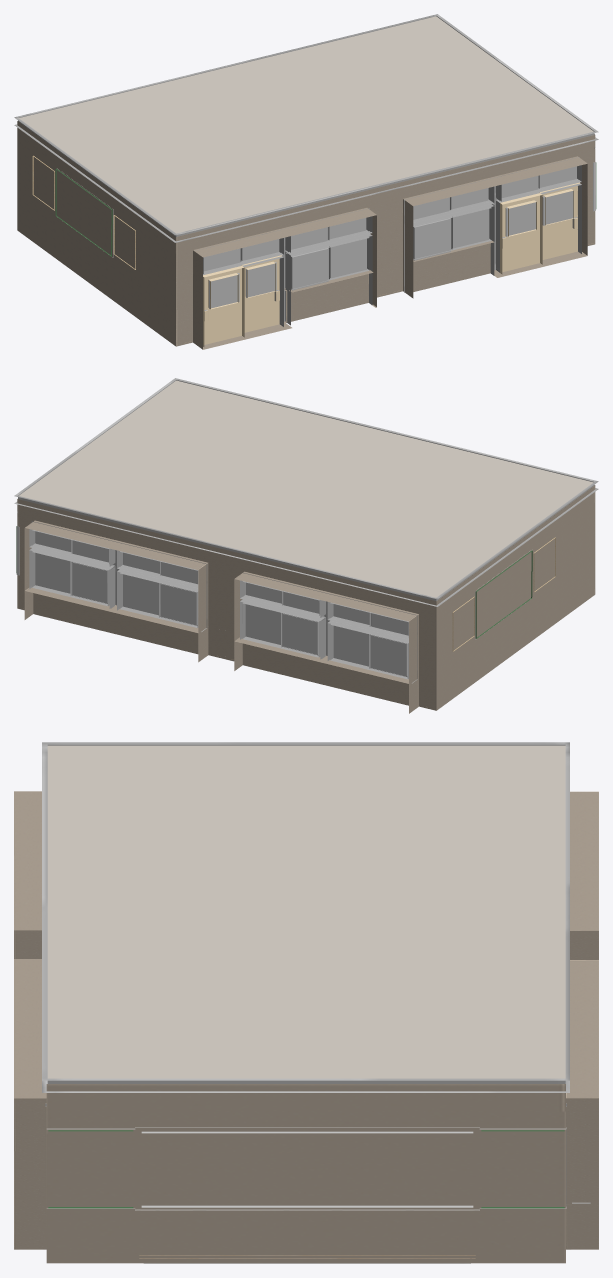
The model's file is japanese-classroom.glb.
The picture shows the model from 3 angles, top to bottom: view 1: azimuth 30°, elevation 25°; view 2: azimuth 150°, elevation 25°; view 3: azimuth 270°, elevation 25°; orthographic projection. The views are drawn at different scales.
Visible parts, largest first — view 1: ROOF:polySurface21, DER, NORTHANDSOUTH, BORDE_METAL, PUERTA_3, PUERTA_4, MARCO_DER_N, MARCO_DER_N2, PUERTA_5, PUERTA_1, VENTANA_CRISTAL23, VENTANA_CRISTAL16 (+16 smaller); view 2: ROOF:polySurface21, IZQ, NORTHANDSOUTH, BORDE_METAL, MARCO_IZQ_N, MARCO_IZQ_N2, VENTANA_CRISTAL4, VENTANA_CRISTAL8, VENTANA_CRISTAL12, VENTANA_CRISTAL, VENTANA_CRISTAL13, VENTANA_CRISTAL1 (+16 smaller); view 3: ROOF:polySurface21, NORTHANDSOUTH, IZQ, DER, BORDE_METAL, MARCO_GRANDE.
Part boxes in pixels (x1,y1,x2,y2): ROOF:polySurface21: [19, 16, 593, 233]; DER: [176, 135, 595, 349]; NORTHANDSOUTH: [17, 121, 594, 346]; BORDE_METAL: [14, 14, 598, 242]; PUERTA_3: [500, 193, 542, 274]; PUERTA_4: [203, 266, 244, 346]; MARCO_DER_N: [404, 157, 581, 292]; MARCO_DER_N2: [195, 208, 372, 326]; PUERTA_5: [241, 255, 281, 332]; PUERTA_1: [539, 182, 580, 259]; VENTANA_CRISTAL23: [291, 248, 328, 290]; VENTANA_CRISTAL16: [413, 218, 450, 260]; ROOF:polySurface21: [19, 380, 593, 597]; IZQ: [17, 499, 436, 713]; NORTHANDSOUTH: [436, 485, 595, 710]; BORDE_METAL: [14, 378, 598, 606]; MARCO_IZQ_N: [29, 521, 207, 631]; MARCO_IZQ_N2: [240, 572, 417, 683]; VENTANA_CRISTAL4: [160, 583, 197, 625]; VENTANA_CRISTAL8: [371, 634, 407, 676]; VENTANA_CRISTAL12: [283, 613, 318, 654]; VENTANA_CRISTAL: [72, 562, 107, 603]; VENTANA_CRISTAL13: [245, 604, 281, 644]; VENTANA_CRISTAL1: [35, 553, 70, 593]; ROOF:polySurface21: [47, 745, 565, 1078]; NORTHANDSOUTH: [46, 1084, 565, 1263]; IZQ: [566, 791, 598, 1249]; DER: [14, 791, 46, 1249]; BORDE_METAL: [42, 742, 569, 1092]; MARCO_GRANDE: [135, 1127, 479, 1210].
Bounding box in the file's own units: 12.77 × 3.26 × 9.33.
Materials: 11 (9 with a texture image).
